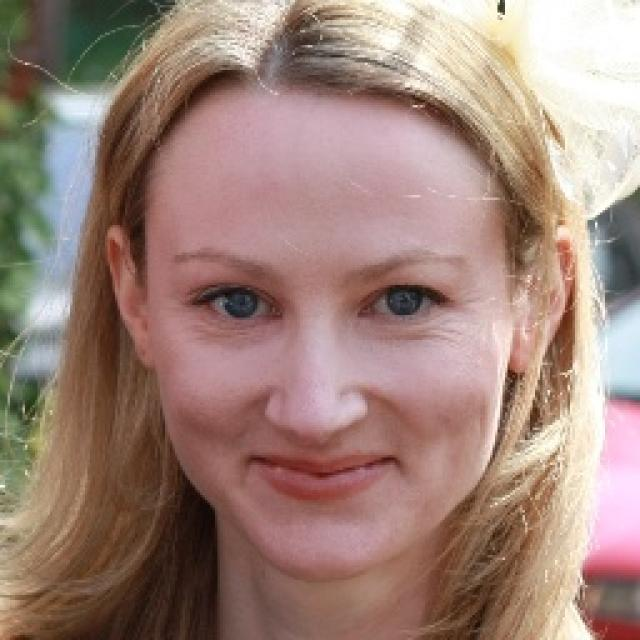earlobe: (509, 222, 580, 377), (103, 225, 158, 368)
